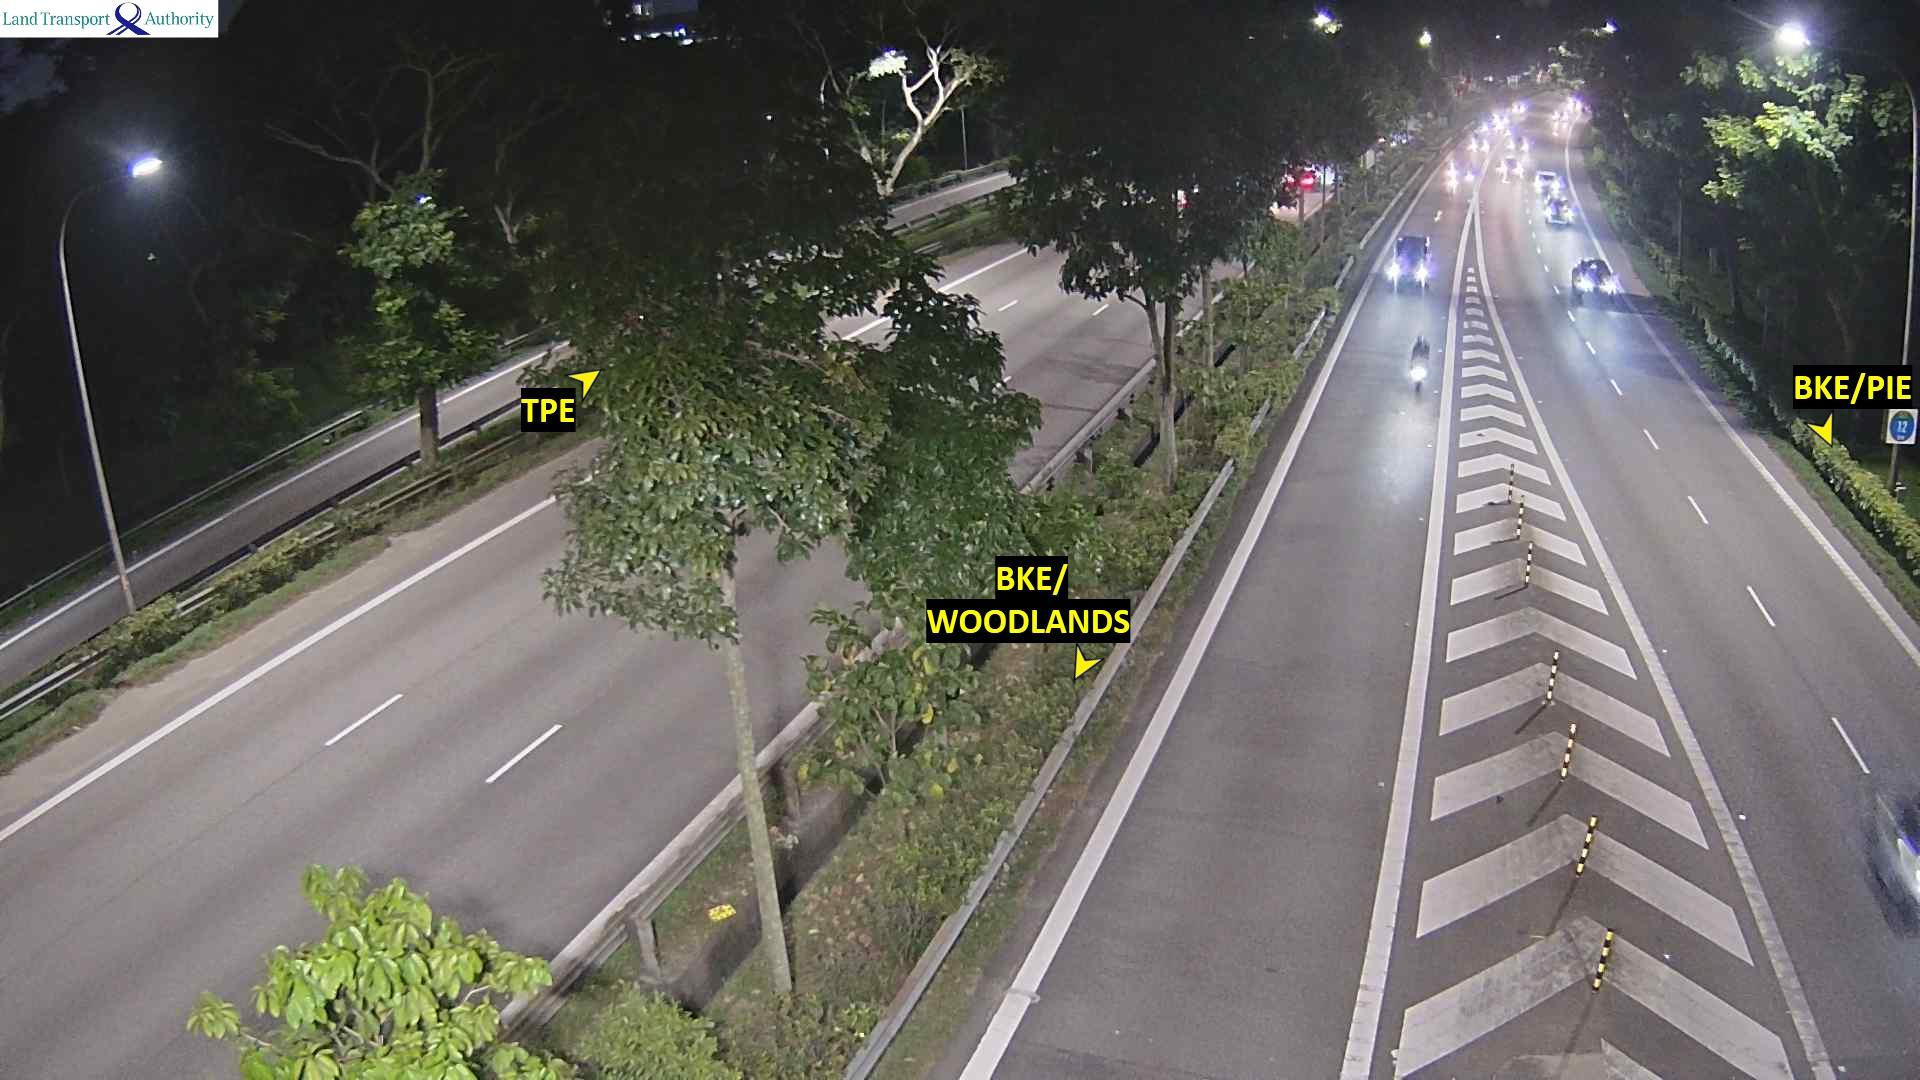incoming: (1387, 244, 1432, 293), (1575, 262, 1625, 305), (1406, 360, 1441, 400), (1544, 200, 1572, 235), (1535, 173, 1561, 195), (1497, 161, 1524, 182), (1506, 136, 1530, 154)
